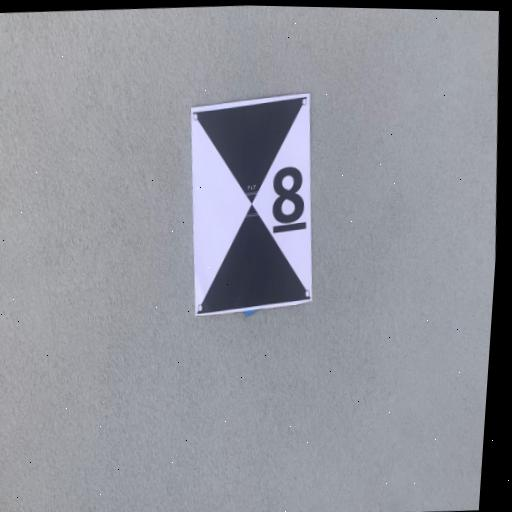target8: (193, 101, 313, 316)
